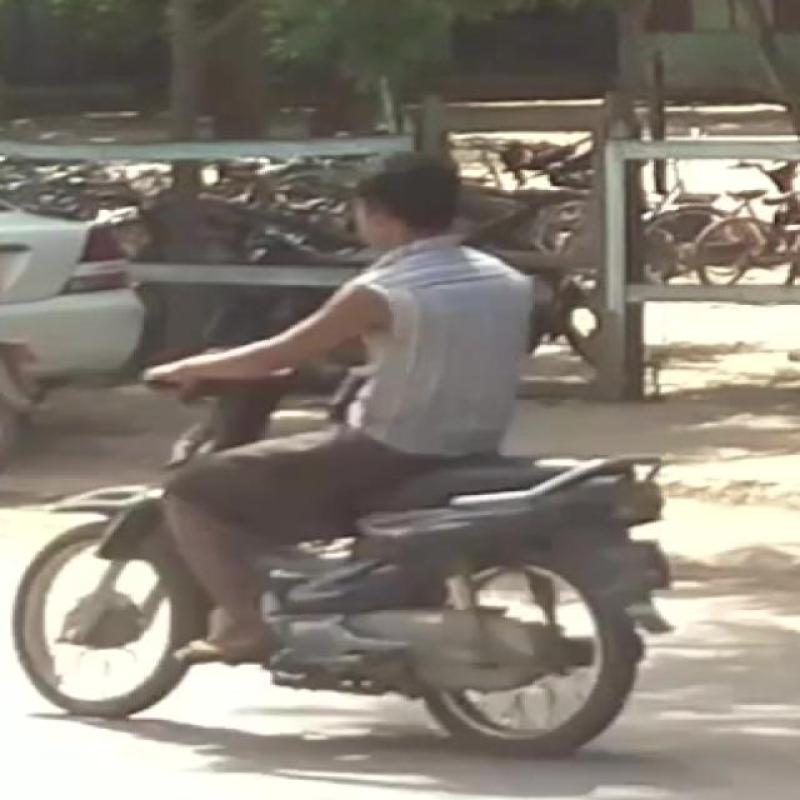nohelmet: (310, 135, 510, 274)
